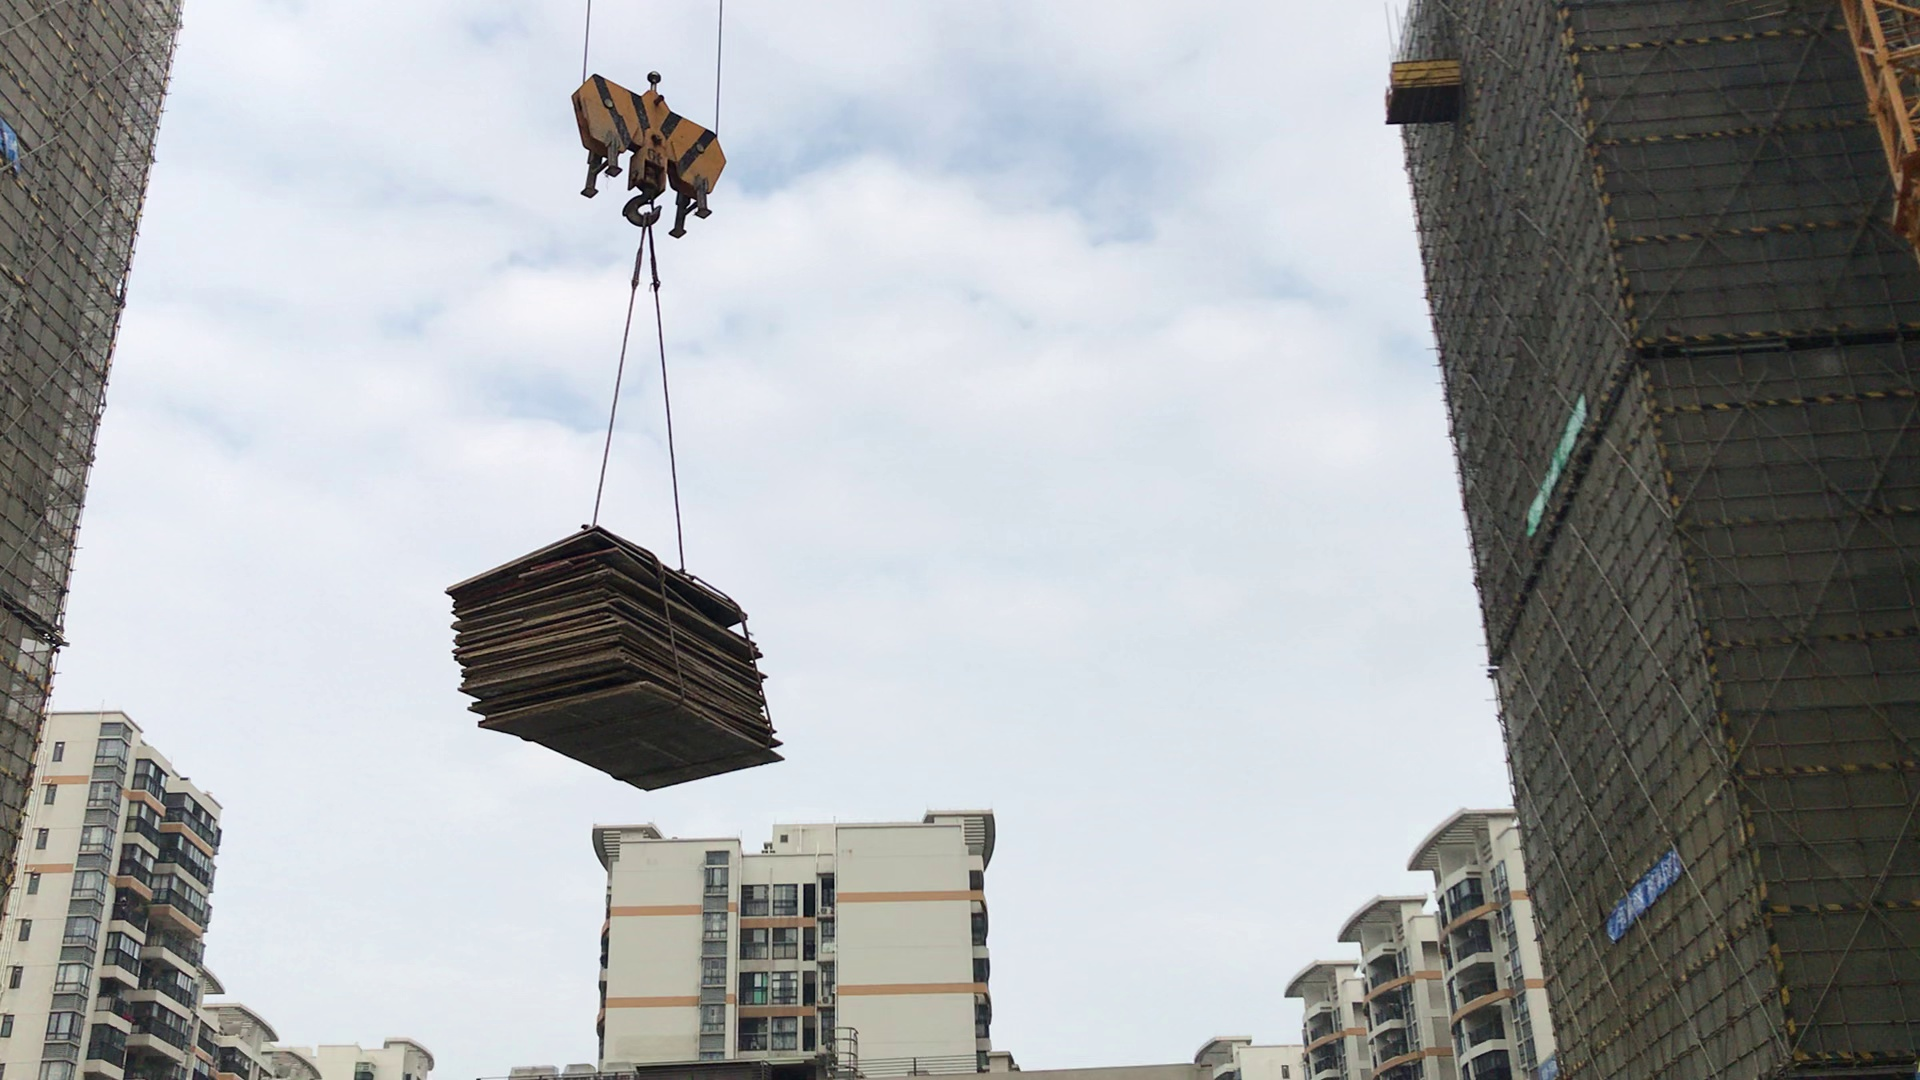board: (446, 534, 777, 789)
hook: (570, 69, 728, 243)
slogan: (1524, 393, 1577, 535), (1607, 847, 1677, 943)
